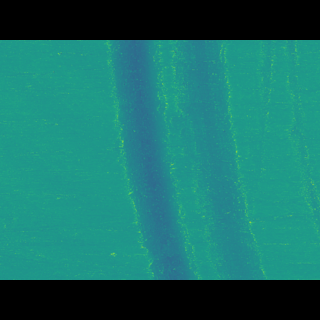Loch: (104, 70, 267, 249), (276, 69, 320, 210)
